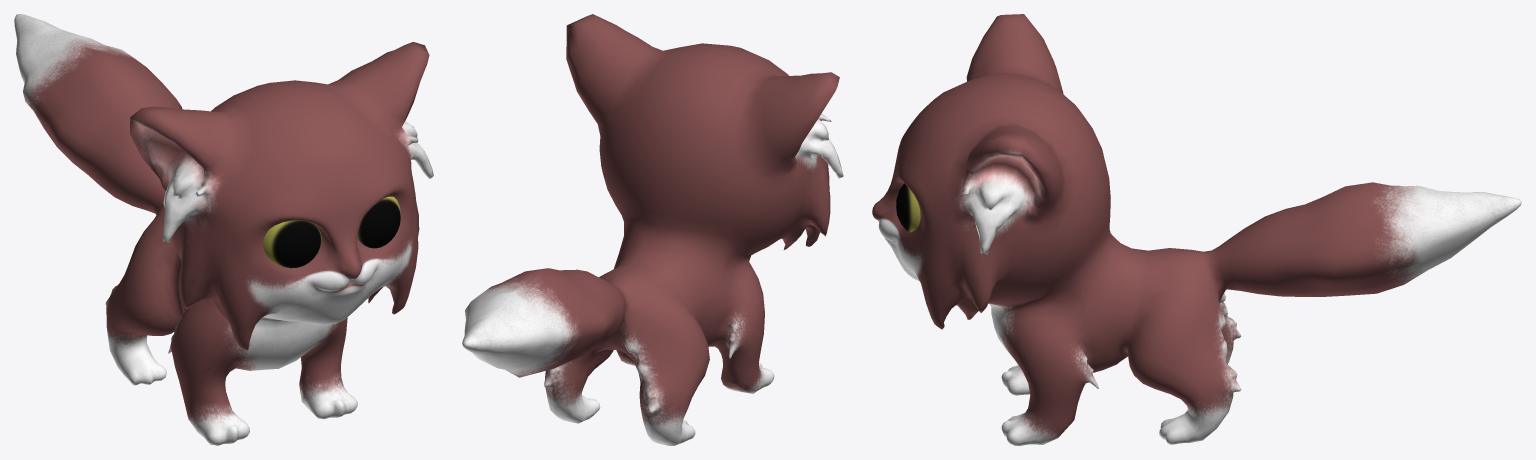
File: cat.dae
3 views of the same model, side by side, from view 1: azimuth 30°, elevation 25°; view 2: azimuth 150°, elevation 25°; view 3: azimuth 270°, elevation 25° (orthographic). The views are drawn at different scales.
Visible parts, largest first — view 1: CatMac; view 2: CatMac; view 3: CatMac.
Boxes of the visible parts, bbox=[...] form: CatMac: bbox=[14, 14, 433, 445]; CatMac: bbox=[462, 14, 843, 445]; CatMac: bbox=[872, 14, 1521, 445].
Size of the model in its own units: 0.3502 by 0.4 by 0.6968.
Materials: 2 (2 with a texture image).
